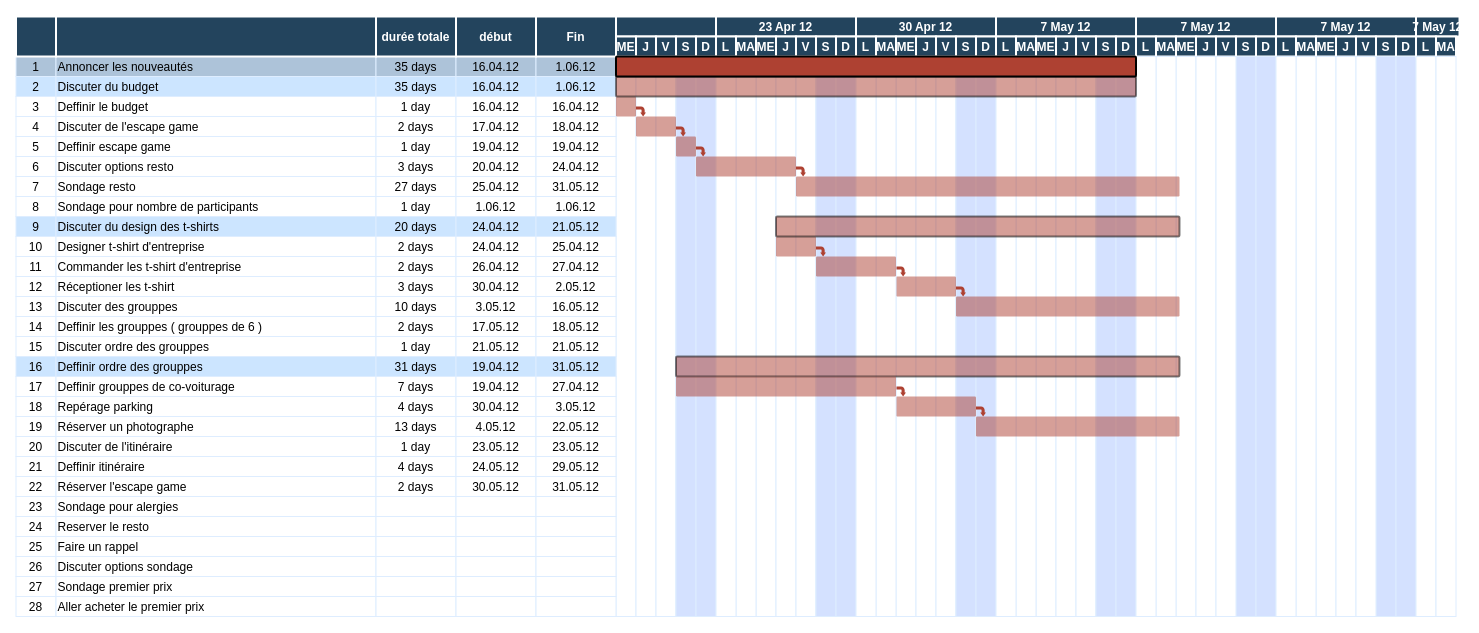
This 1479x633 diagram has some shape labels left out. The shapes that lost their labels are listed below. From the top down, each one's centre as x and y in pixels, then its label:
[215,36]: Nom des tâches
[663,26]: 15-19 Octobre
